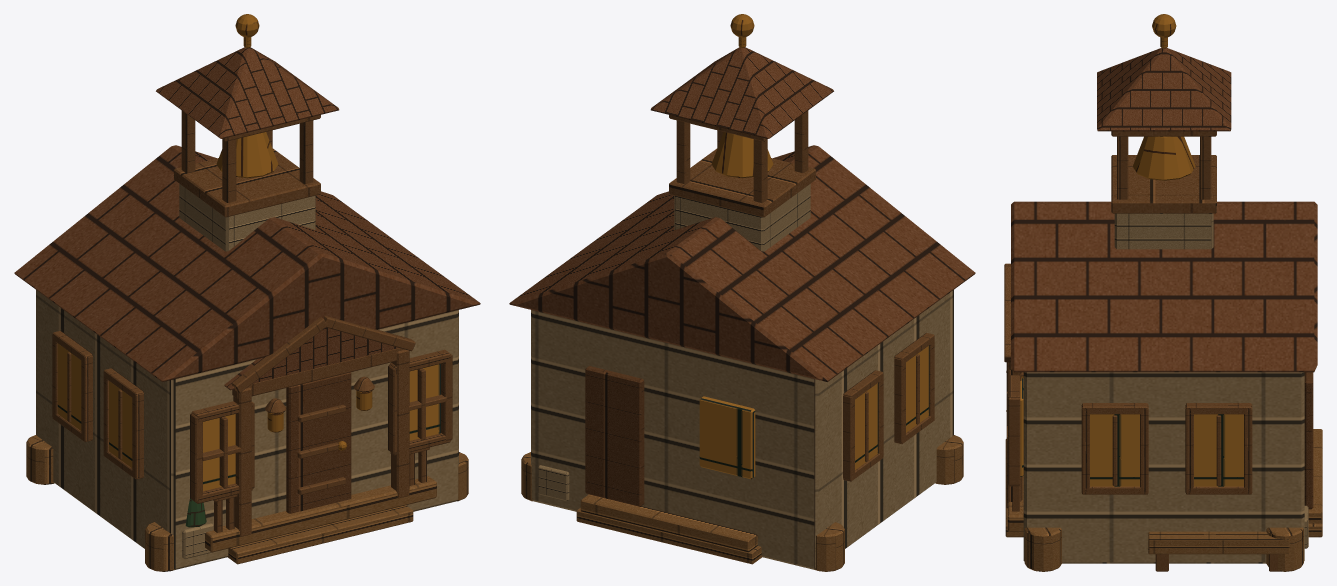
The model's file is schoolhouse.glb.
3 renders of one model, left to right at view 1: azimuth 30°, elevation 25°; view 2: azimuth 150°, elevation 25°; view 3: azimuth 270°, elevation 25°, orthographic.
Parts seen in each view (by area): view 1: SchoolhouseFullWrap; view 2: SchoolhouseFullWrap; view 3: SchoolhouseFullWrap.
Part boxes in pixels (x1,y1,x2,y2): SchoolhouseFullWrap: [14, 14, 480, 571]; SchoolhouseFullWrap: [509, 14, 975, 571]; SchoolhouseFullWrap: [1004, 14, 1322, 571].
Bounding box in the file's own units: 3.96 × 5.6 × 3.38.
1 material, 1 textured.
